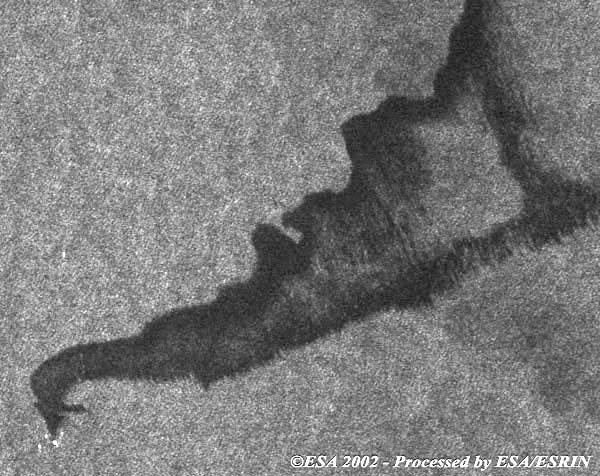anomaly: (23, 58, 600, 435)
